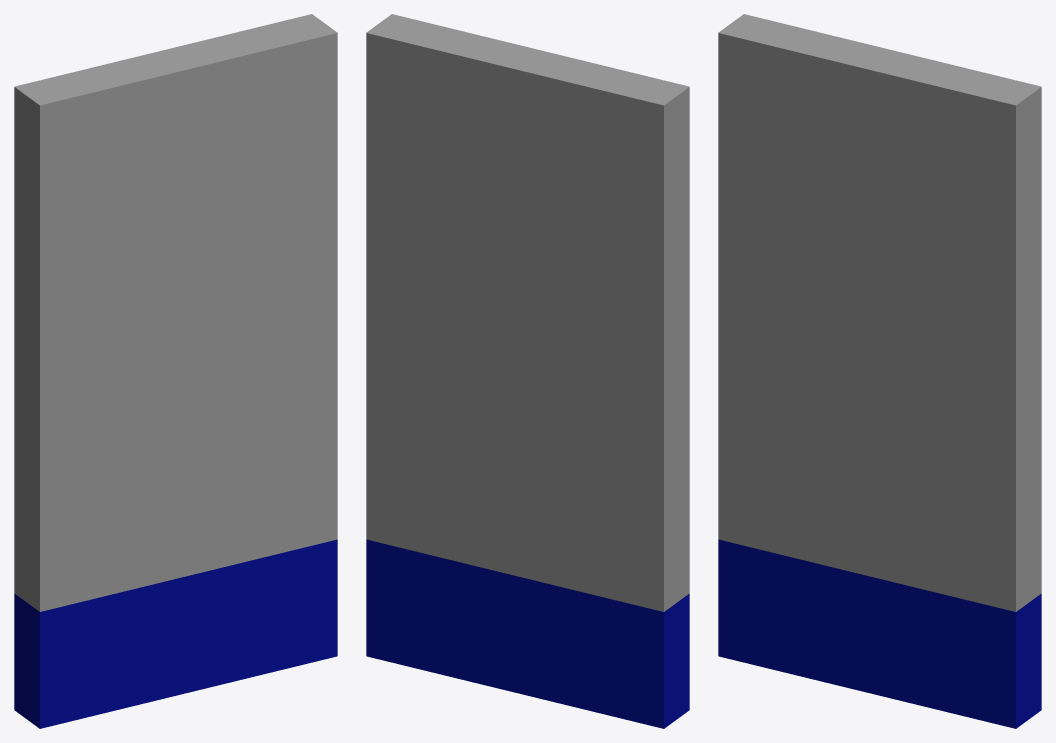
Rendered from wall.obj.
3 views of the same model, side by side, from view 1: azimuth 30°, elevation 25°; view 2: azimuth 150°, elevation 25°; view 3: azimuth 330°, elevation 25° (orthographic).
Parts seen in each view (by area): view 1: Plane_Plane.002; view 2: Plane_Plane.002; view 3: Plane_Plane.002.
Part boxes in pixels (x1=…): Plane_Plane.002: x1=14, y1=14, x2=337, y2=728; Plane_Plane.002: x1=366, y1=14, x2=689, y2=728; Plane_Plane.002: x1=718, y1=14, x2=1041, y2=728.
Bounding box in the file's own units: 2 × 4 × 0.3.
